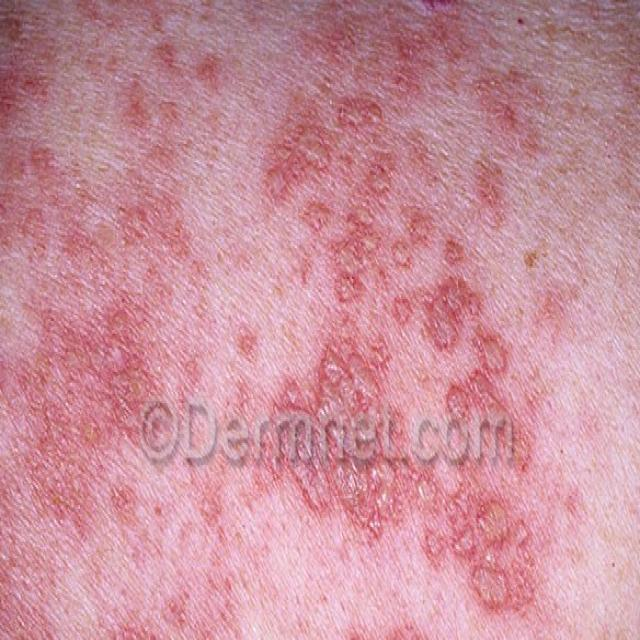Viral Infections: (256, 3, 563, 625), (332, 583, 491, 640)
